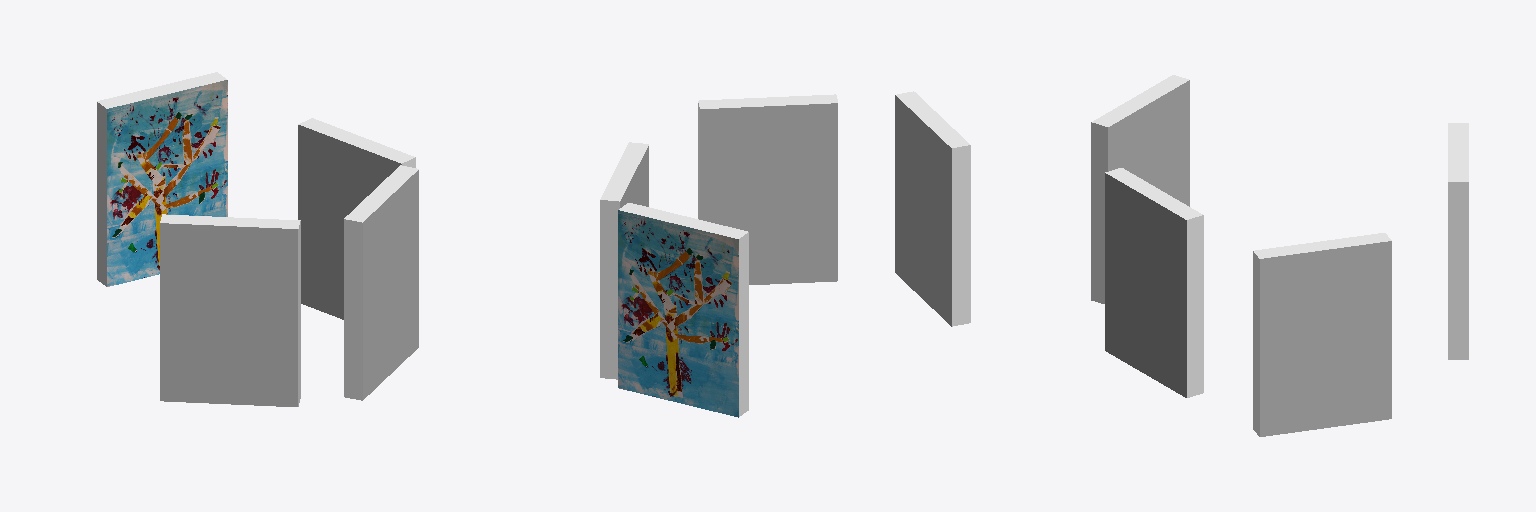
3 renders of one model, left to right at view 1: azimuth 30°, elevation 25°; view 2: azimuth 150°, elevation 25°; view 3: azimuth 270°, elevation 25°, orthographic.
Visible parts, largest first — view 1: Cube_4, Cube_1, Cube_3, Cube_2; view 2: Cube_1, Cube_3, Cube_4, Cube_2; view 3: Cube_2, Cube_3, Cube_4, Cube_1.
Boxes of the visible parts, box(x1,y1,x2,y2) form: Cube_4: box(160, 214, 300, 406); Cube_1: box(97, 72, 227, 286); Cube_3: box(344, 165, 418, 400); Cube_2: box(298, 118, 415, 319); Cube_1: box(618, 203, 748, 417); Cube_3: box(698, 94, 837, 284); Cube_4: box(895, 91, 970, 326); Cube_2: box(600, 142, 648, 379); Cube_2: box(1253, 233, 1391, 436); Cube_3: box(1105, 168, 1203, 397); Cube_4: box(1091, 75, 1189, 303); Cube_1: box(1448, 123, 1468, 359).
Bounding box in the file's own units: 744 × 516 × 813.
Materials: 5 (1 with a texture image).